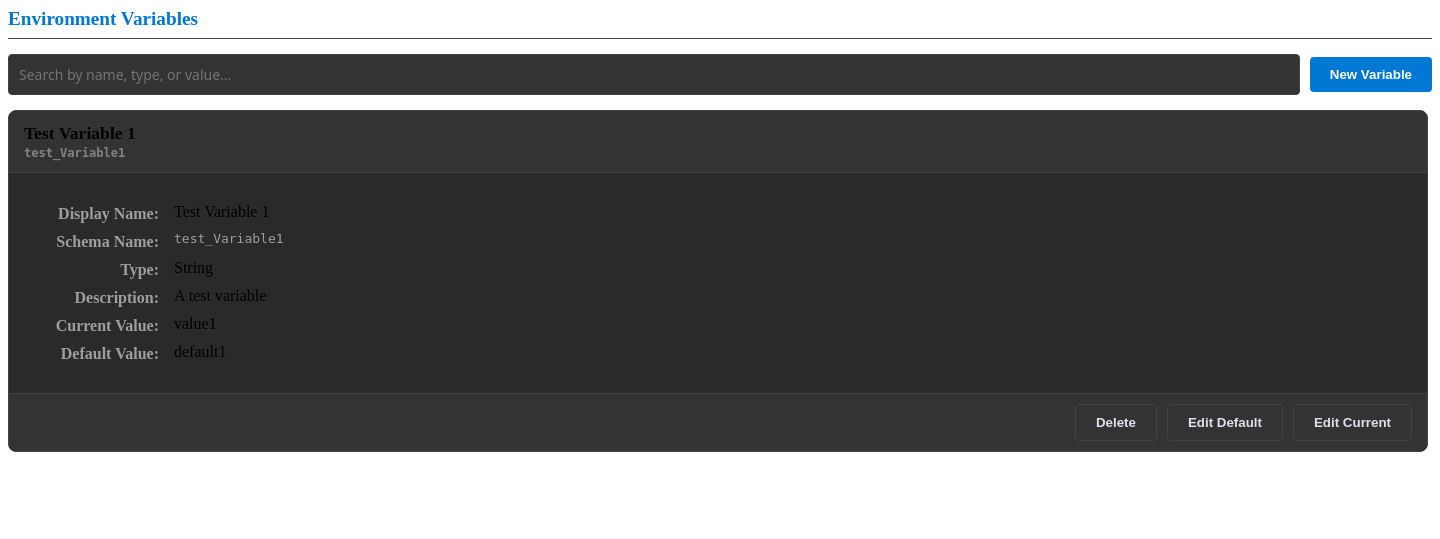
Test: EnvVarsTab › delegated event handling › should handle edit button via delegation
Click the button with class "edit-btn" at (1352, 422), box [1293,404,1412,441]
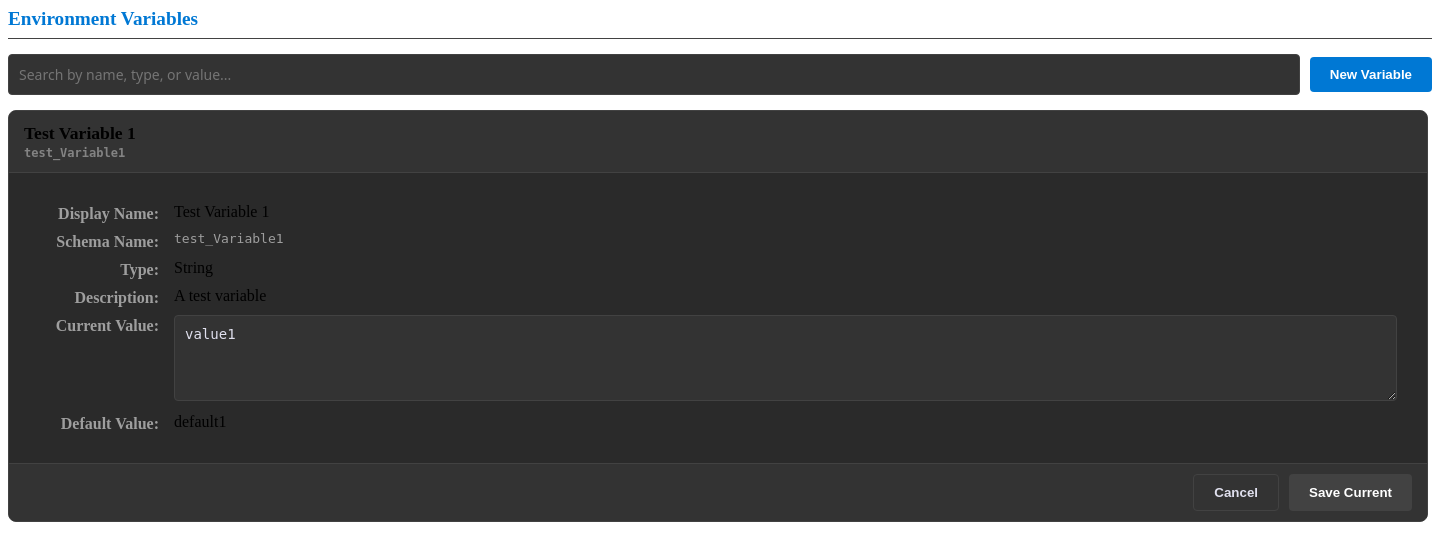
Now the text box with class "env-var-edit-area" is shown, box [174,315,1397,401]
